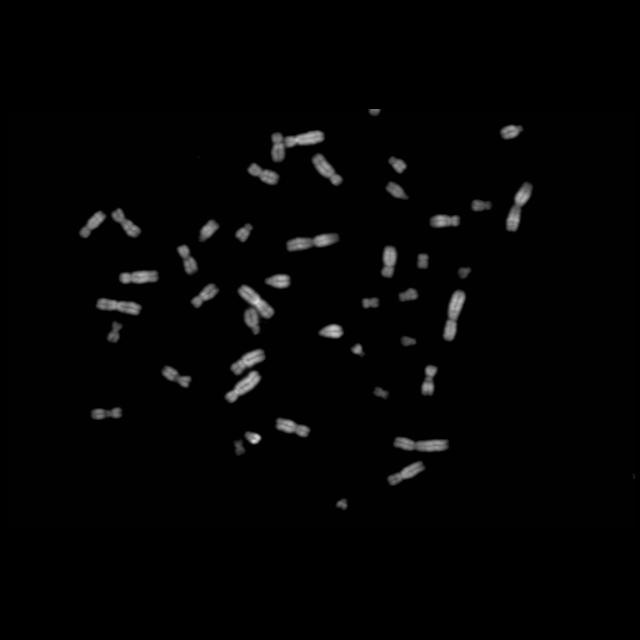chromosome: (505, 182, 533, 232), (236, 285, 274, 319), (285, 230, 339, 252), (444, 289, 466, 341), (225, 372, 260, 402), (388, 459, 424, 486), (314, 153, 342, 187), (232, 347, 266, 375), (392, 435, 450, 451), (284, 128, 324, 150), (112, 208, 140, 238), (276, 417, 312, 439), (97, 298, 140, 316), (247, 164, 278, 186), (79, 211, 105, 237), (177, 244, 198, 274), (192, 284, 218, 308), (420, 364, 438, 398), (120, 269, 158, 285), (164, 366, 191, 388), (379, 244, 396, 278), (430, 212, 458, 230), (197, 219, 218, 243), (244, 308, 262, 334), (316, 324, 344, 340), (385, 182, 409, 200), (92, 406, 122, 420), (270, 131, 284, 161), (235, 222, 253, 244), (500, 124, 524, 140), (264, 274, 291, 288), (470, 198, 492, 215), (387, 156, 407, 174), (108, 321, 122, 343), (457, 260, 473, 278), (398, 289, 418, 303), (244, 430, 262, 444), (416, 253, 430, 269), (232, 439, 246, 455), (399, 336, 416, 348), (363, 297, 379, 309), (336, 498, 349, 512), (350, 344, 364, 356), (373, 388, 387, 399)
